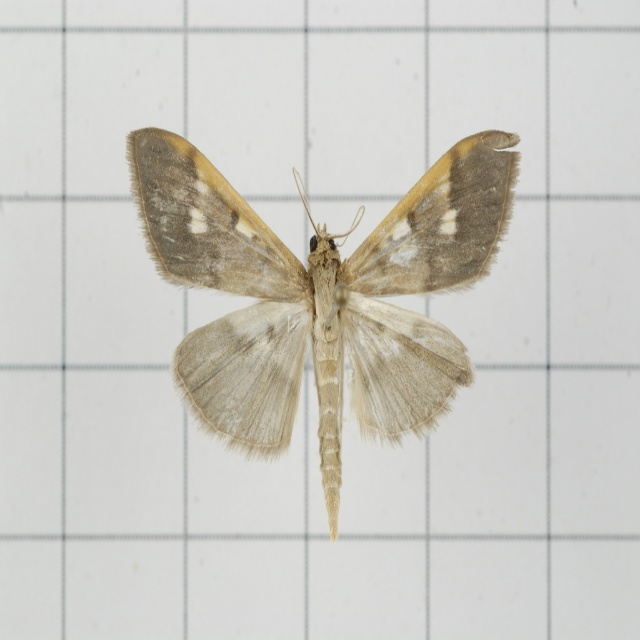Butterfly: (120, 129, 506, 530)
